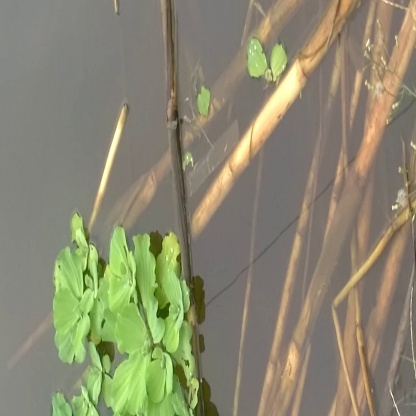leaf: (41, 220, 208, 416)
